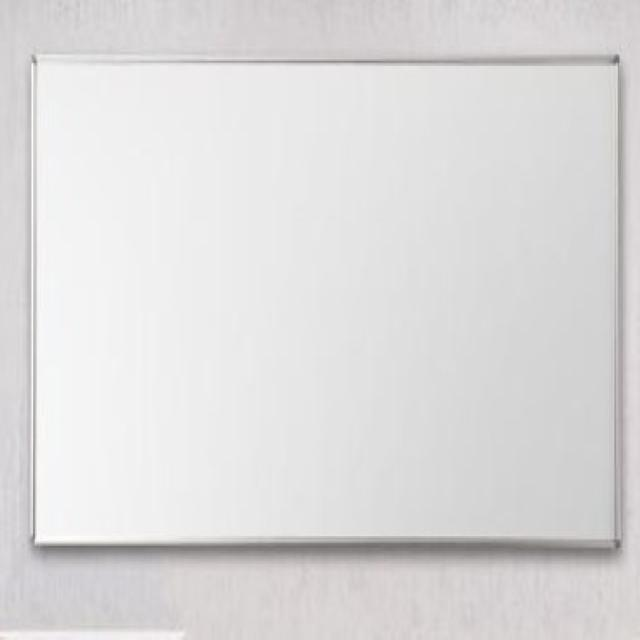White-board: (35, 55, 619, 547)
